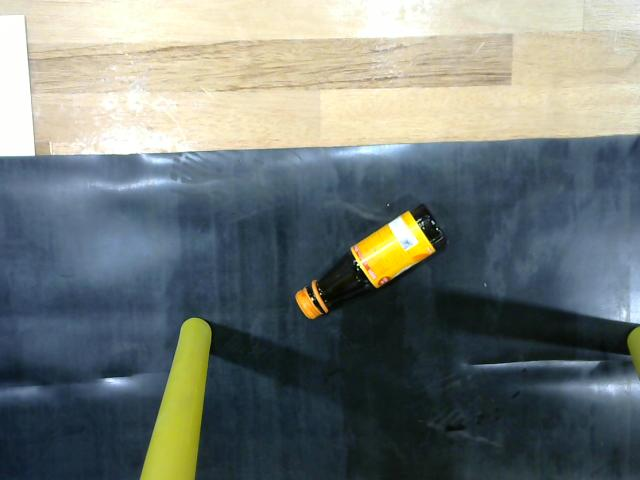glass: (289, 197, 457, 327)
